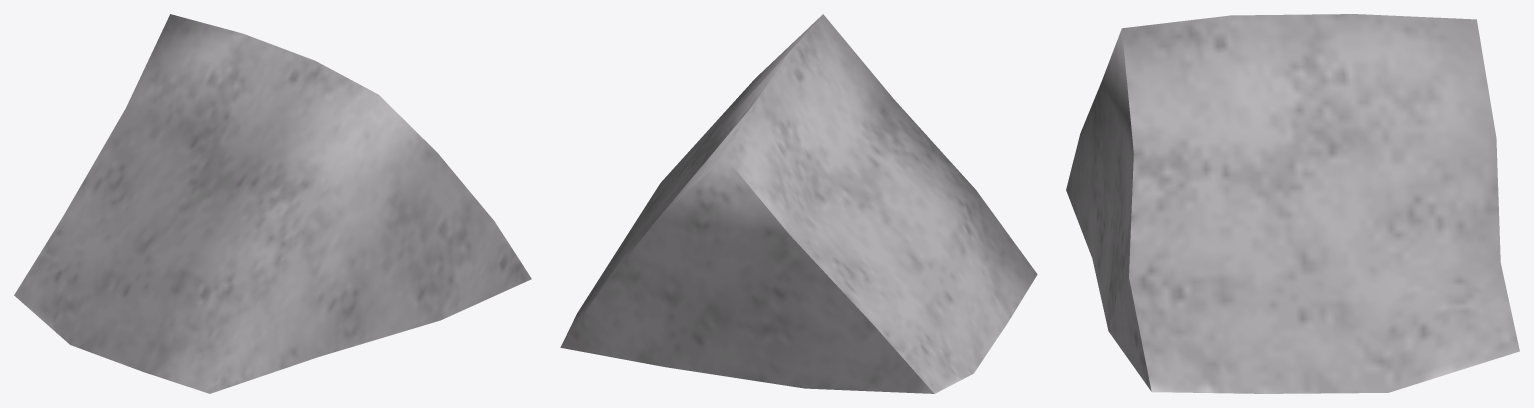
The model's file is ob-bigstone02.glb.
3 renders of one model, left to right at view 1: azimuth 30°, elevation 25°; view 2: azimuth 150°, elevation 25°; view 3: azimuth 270°, elevation 25°, orthographic. The views are drawn at different scales.
Parts seen in each view (by area): view 1: Box01; view 2: Box01; view 3: Box01.
Part boxes in pixels (x1=…): Box01: x1=14, y1=14, x2=531, y2=393; Box01: x1=560, y1=14, x2=1037, y2=393; Box01: x1=1066, y1=14, x2=1519, y2=393.
Size of the model in its own units: 4.5 by 2.7 by 3.79.
1 material, 1 textured.
